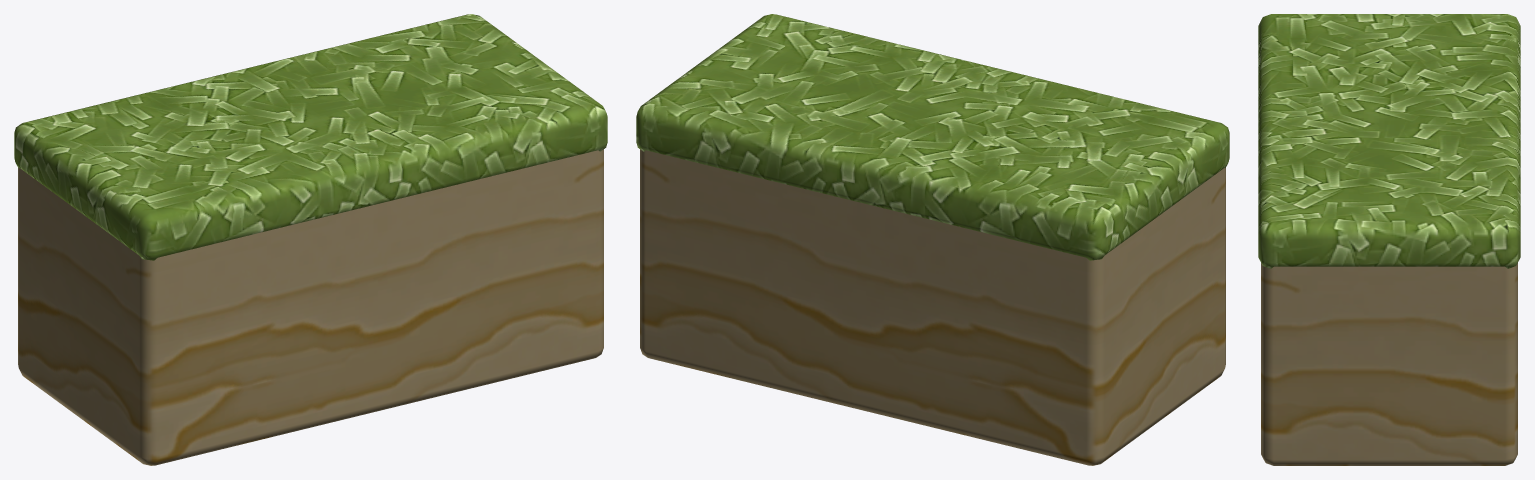
Rendered from SM_Platform_1m_02_A.glb.
3 renders of one model, left to right at view 1: azimuth 30°, elevation 25°; view 2: azimuth 150°, elevation 25°; view 3: azimuth 270°, elevation 25°, orthographic. The views are drawn at different scales.
Visible parts, largest first — view 1: SM_Platform_1m_02_A; view 2: SM_Platform_1m_02_A; view 3: SM_Platform_1m_02_A.
Part boxes in pixels (box(x1,y1,x2,y2)): SM_Platform_1m_02_A: box(14, 14, 607, 465); SM_Platform_1m_02_A: box(636, 14, 1229, 465); SM_Platform_1m_02_A: box(1258, 14, 1520, 465).
Size of the model in its own units: 2.02 by 1.05 by 1.02.
2 materials, 2 textured.
